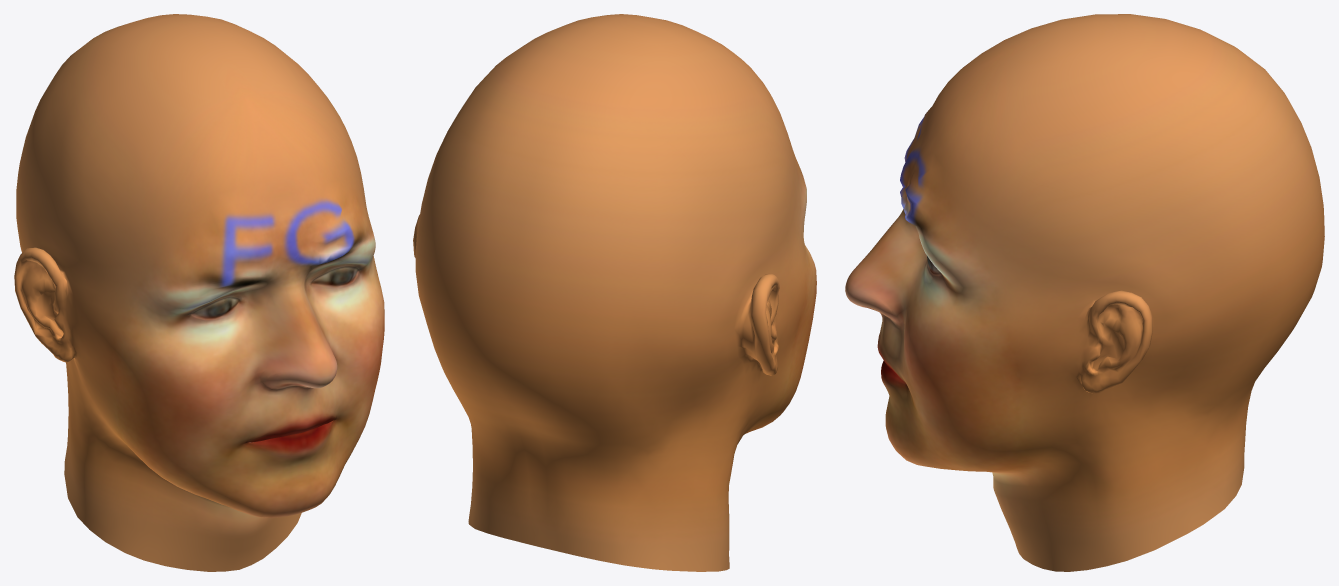
File: avg_anyrace_female_17.obj
3 renders of one model, left to right at view 1: azimuth 30°, elevation 25°; view 2: azimuth 150°, elevation 25°; view 3: azimuth 270°, elevation 25°, orthographic. The views are drawn at different scales.
Visible parts, largest first — view 1: HeadHires; view 2: HeadHires; view 3: HeadHires.
Boxes of the visible parts, left/top/right/bottom form: HeadHires: left=14, top=14, right=384, bottom=571; HeadHires: left=413, top=14, right=816, bottom=571; HeadHires: left=845, top=14, right=1324, bottom=571.
Bounding box in the file's own units: 192 × 283 × 237.
Materials: 3 (3 with a texture image).
